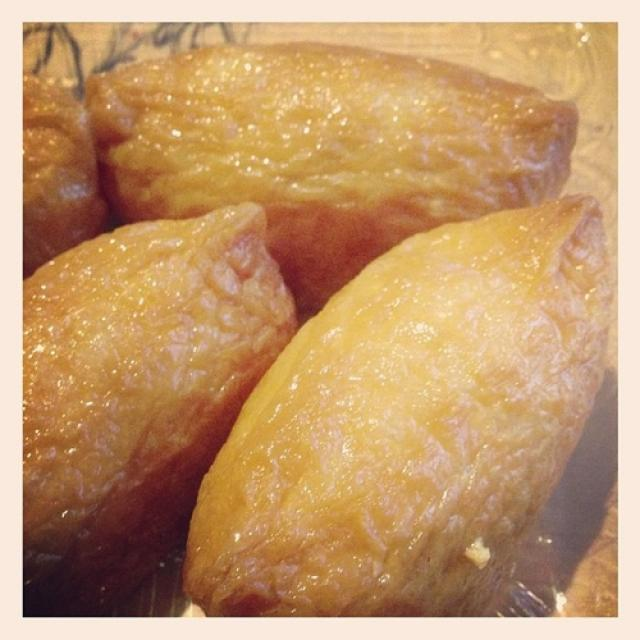寿司卷物: (29, 32, 610, 611)
